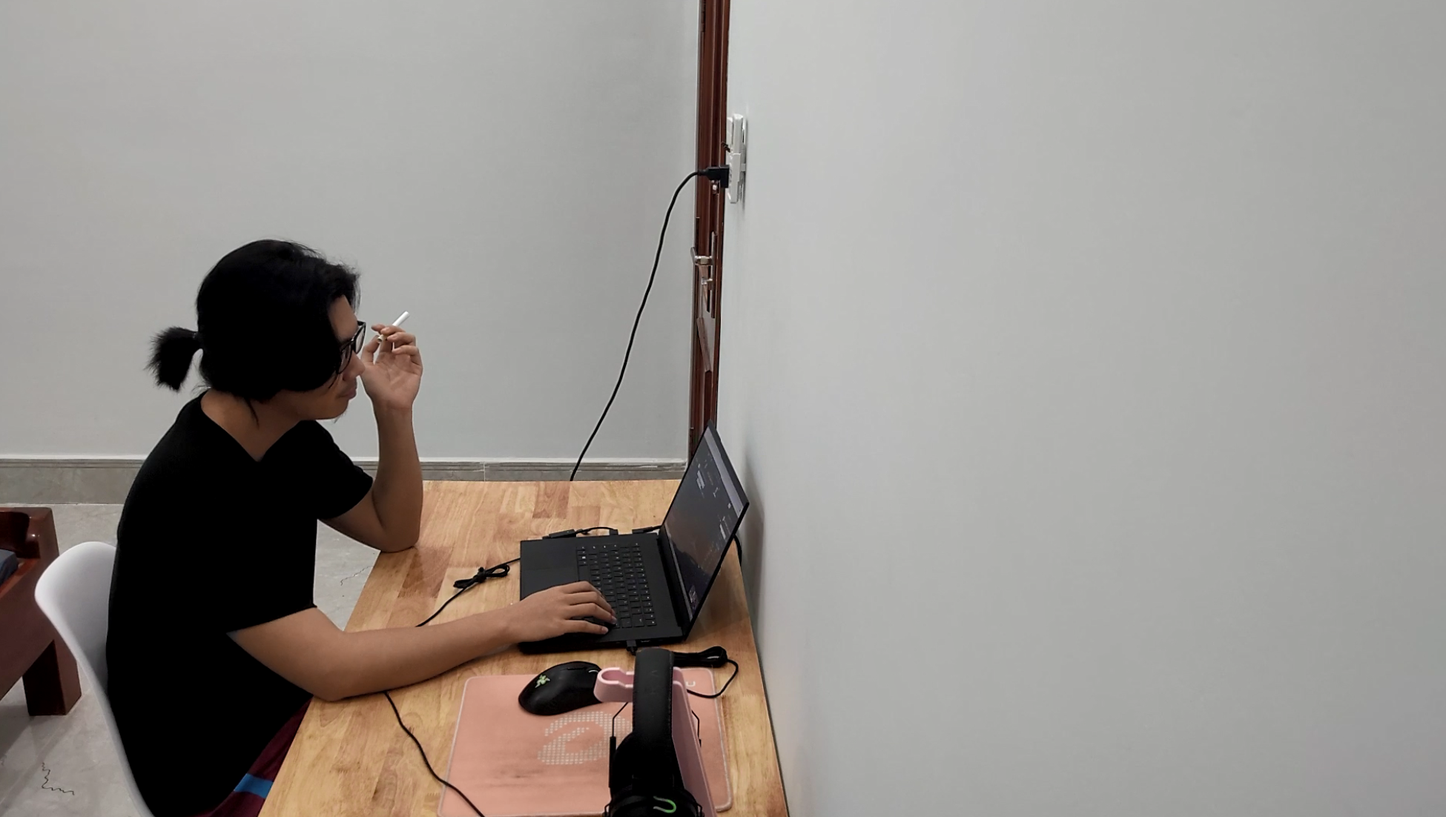cigarette: (377, 303, 414, 354)
person: (93, 213, 458, 817)
